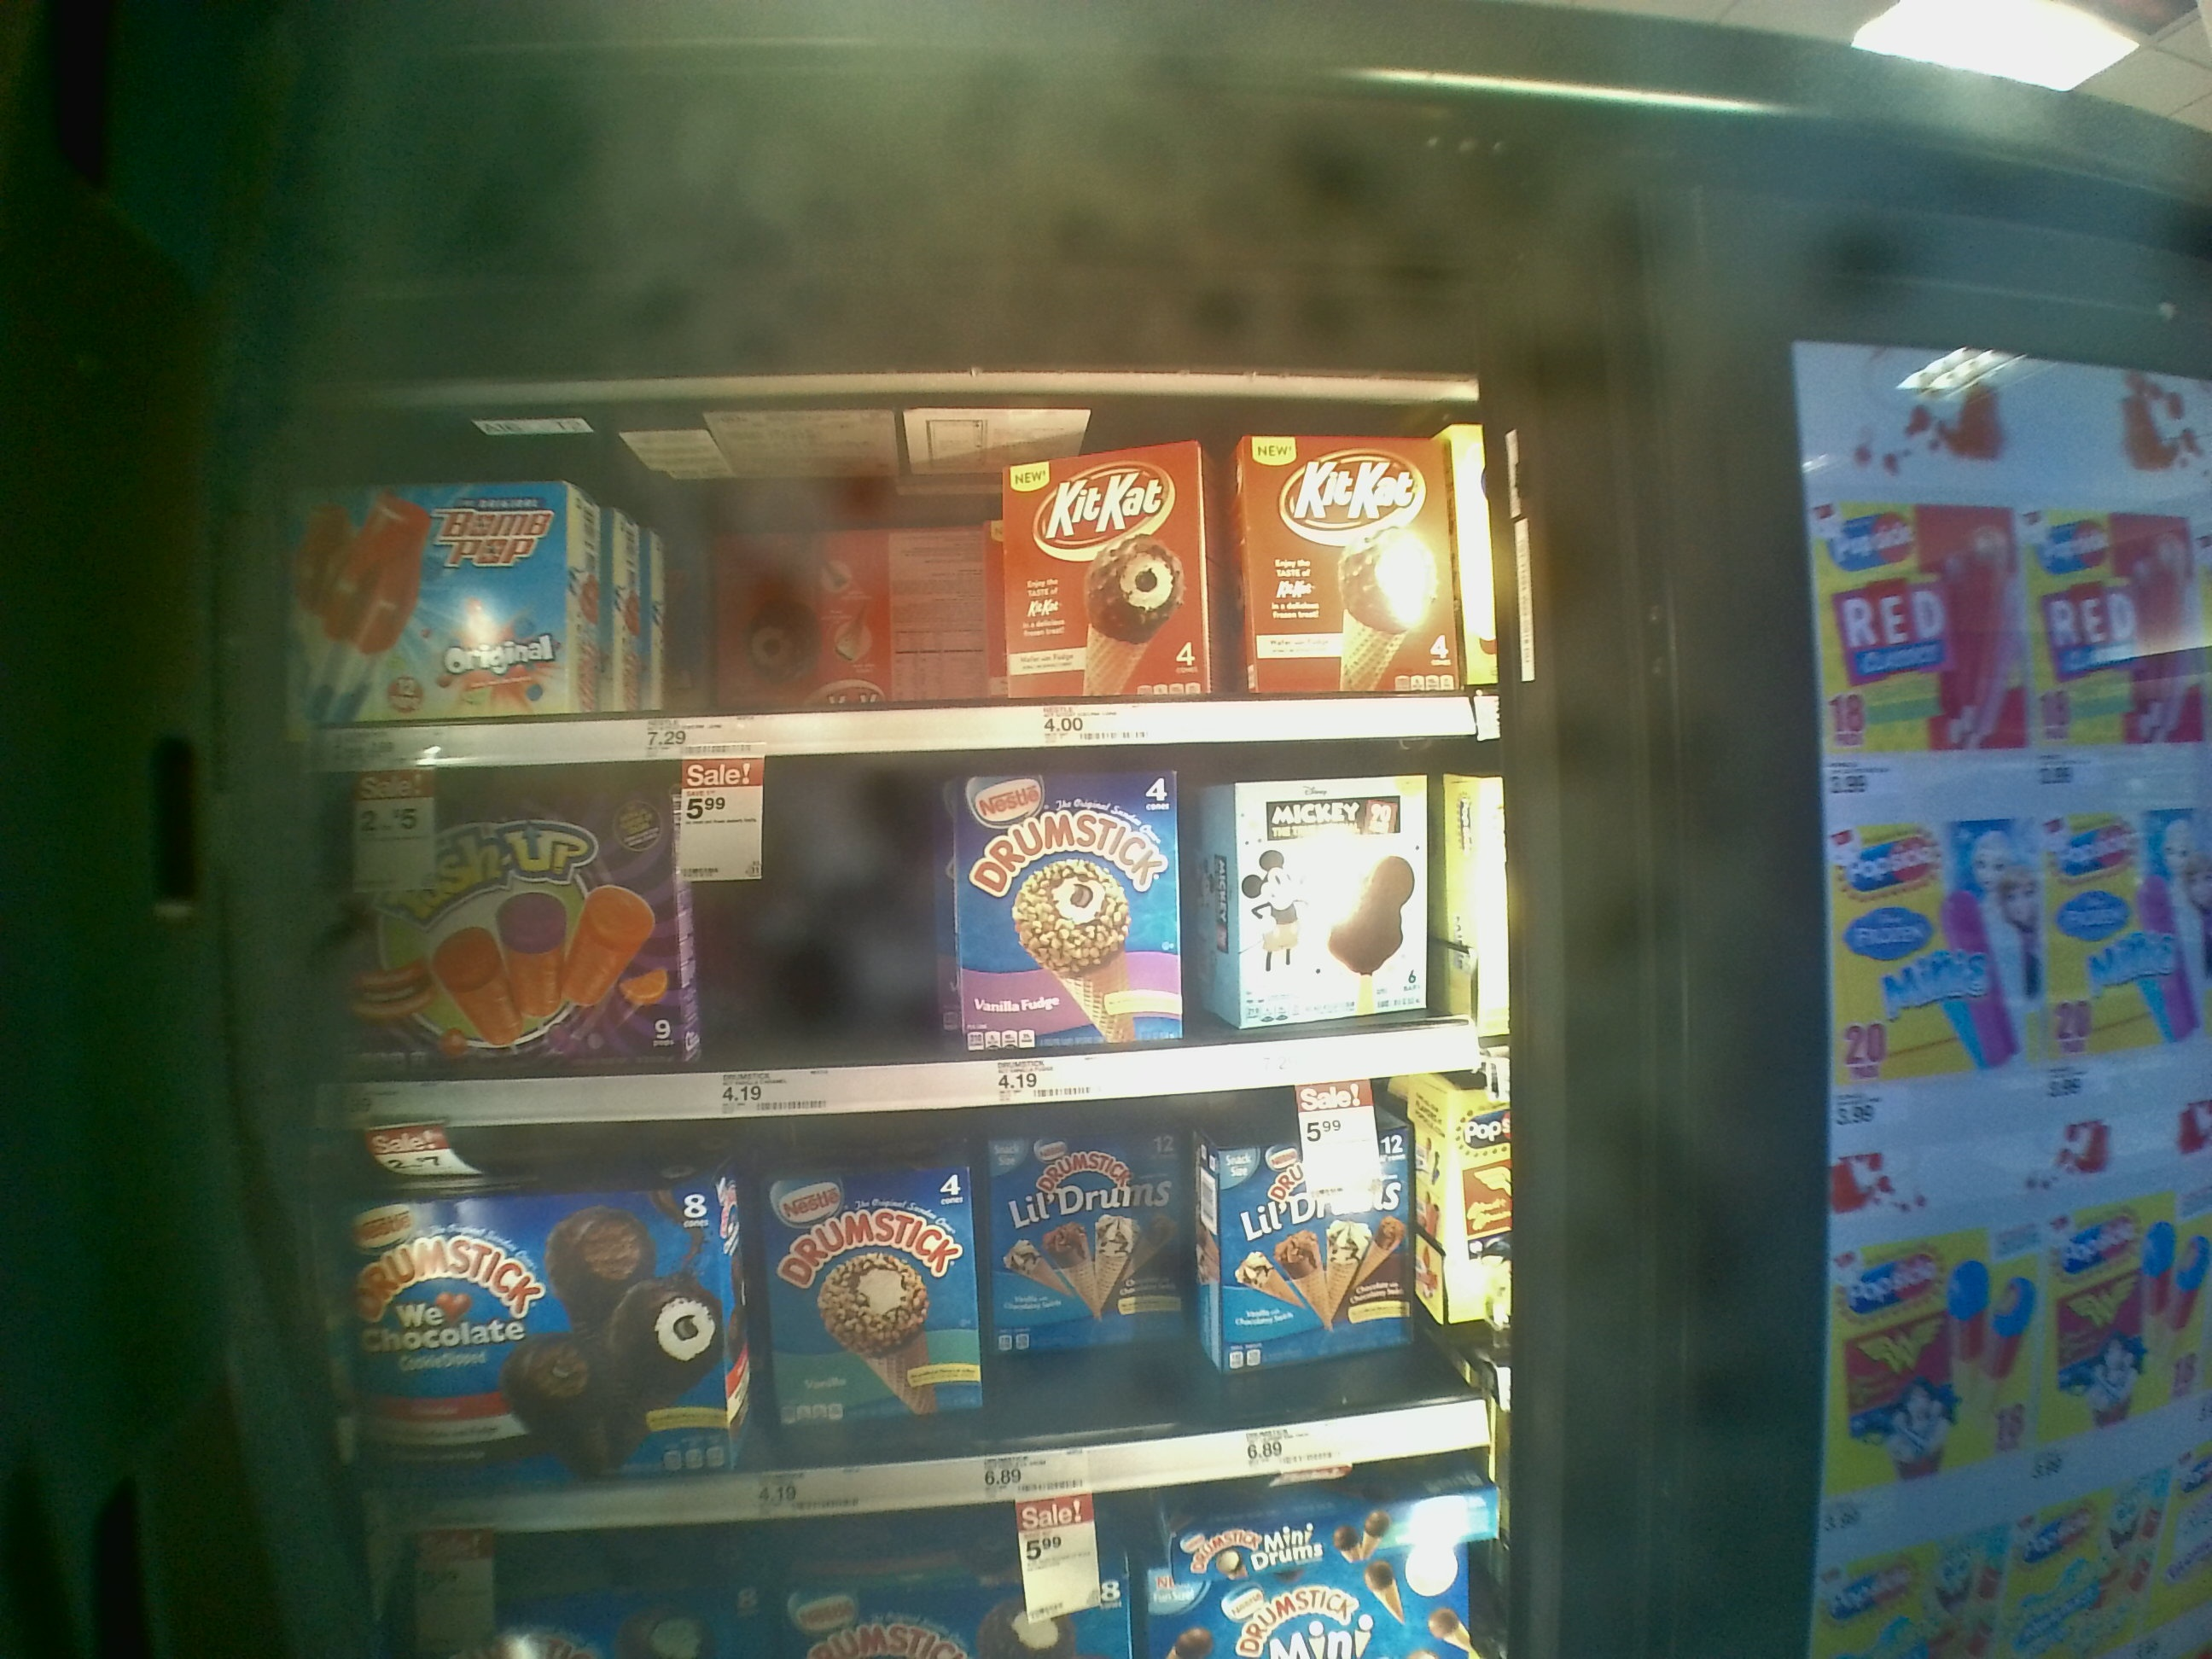shelf: (320, 1075, 1524, 1542), (298, 746, 1521, 1127), (279, 382, 1501, 756)
